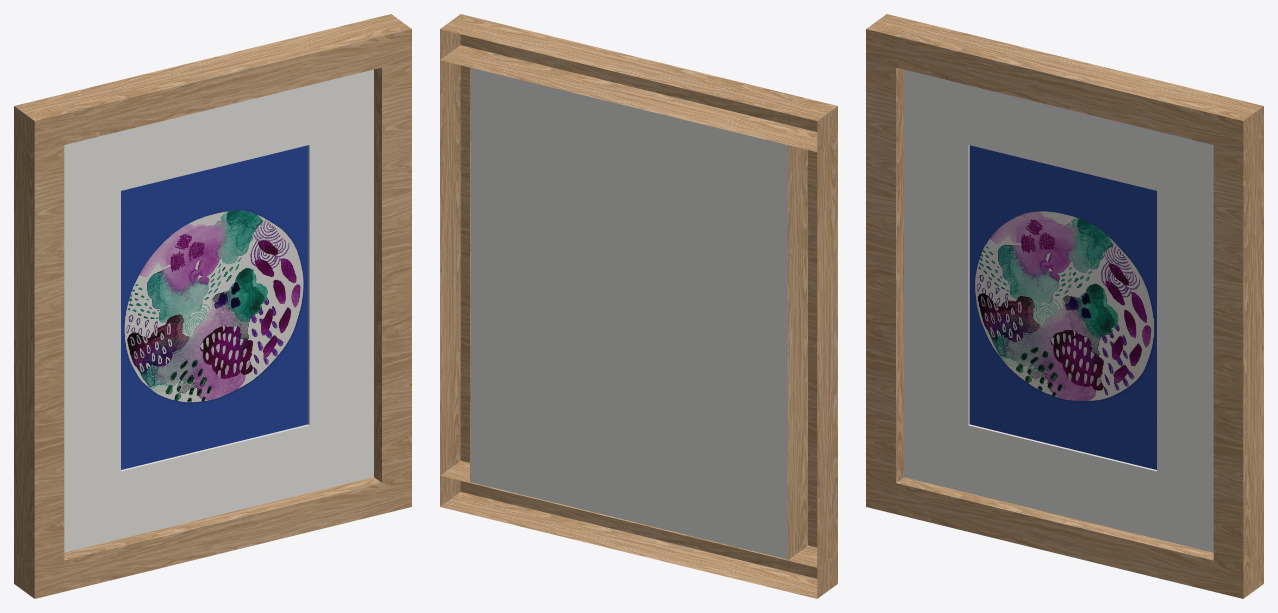
The model's file is mystic-purple.glb.
3 views of the same model, side by side, from view 1: azimuth 30°, elevation 25°; view 2: azimuth 150°, elevation 25°; view 3: azimuth 330°, elevation 25° (orthographic).
Parts seen in each view (by area): view 1: framed-art; view 2: framed-art; view 3: framed-art.
Part boxes in pixels (bbox=[...]): framed-art: bbox=[14, 14, 411, 598]; framed-art: bbox=[440, 14, 837, 598]; framed-art: bbox=[866, 14, 1263, 598].
Size of the model in its own units: 0.2413 by 0.2921 by 0.0229.
Materials: 3 (3 with a texture image).
